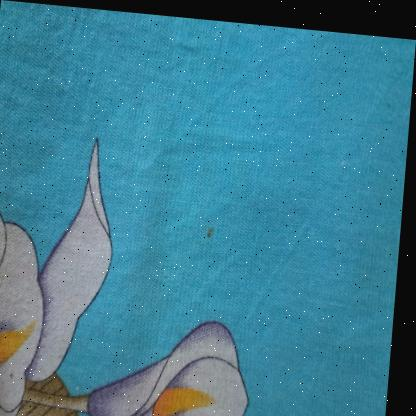spot: (204, 219, 219, 241)
